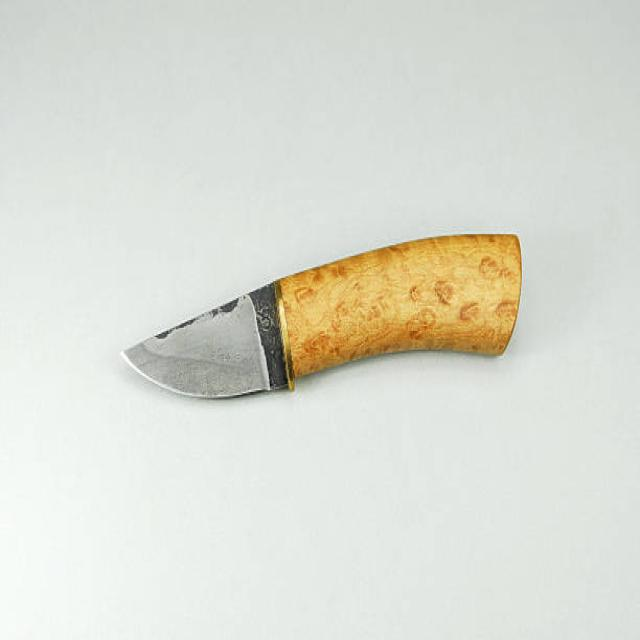knife: (117, 225, 525, 410)
